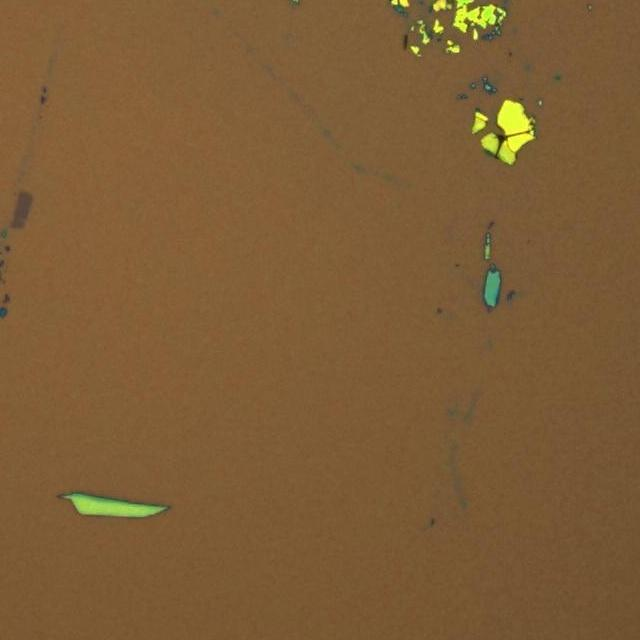monolayer-eWW4: (12, 190, 32, 230)
